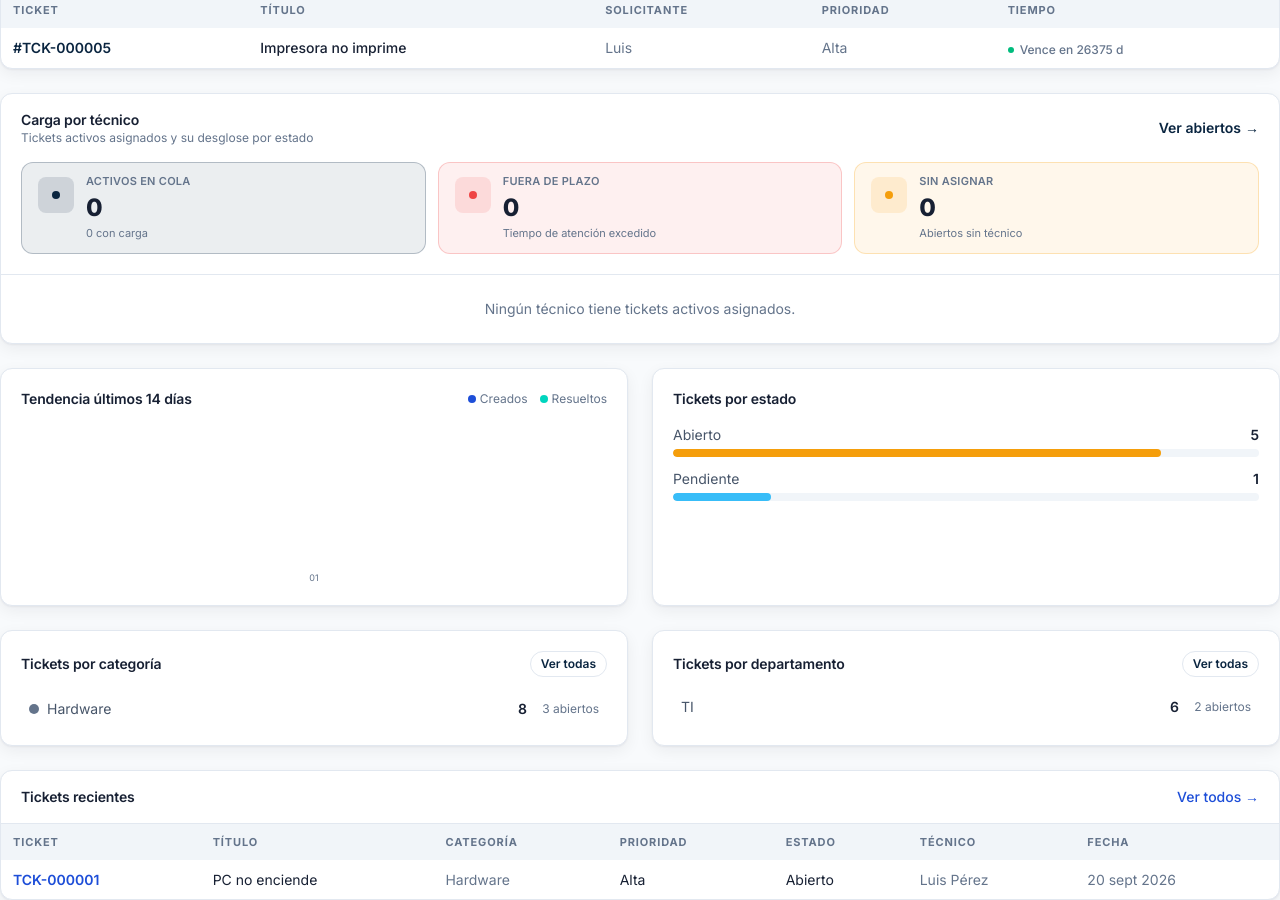
Test: Dashboard · navegación a Tickets › oculta por defecto las categorías sin tickets abiertos y las revela con "Ver todas"
(page scrolled)
Expected: the link "Hardware 8 3 abiertos" is shown, x1=29 y1=700 x2=599 y2=716
Expected: the link "Red" is not shown
Click the button "Ver todas" in the row of "Tickets por categoría": [568, 664] box x1=530 y1=650 x2=607 y2=676
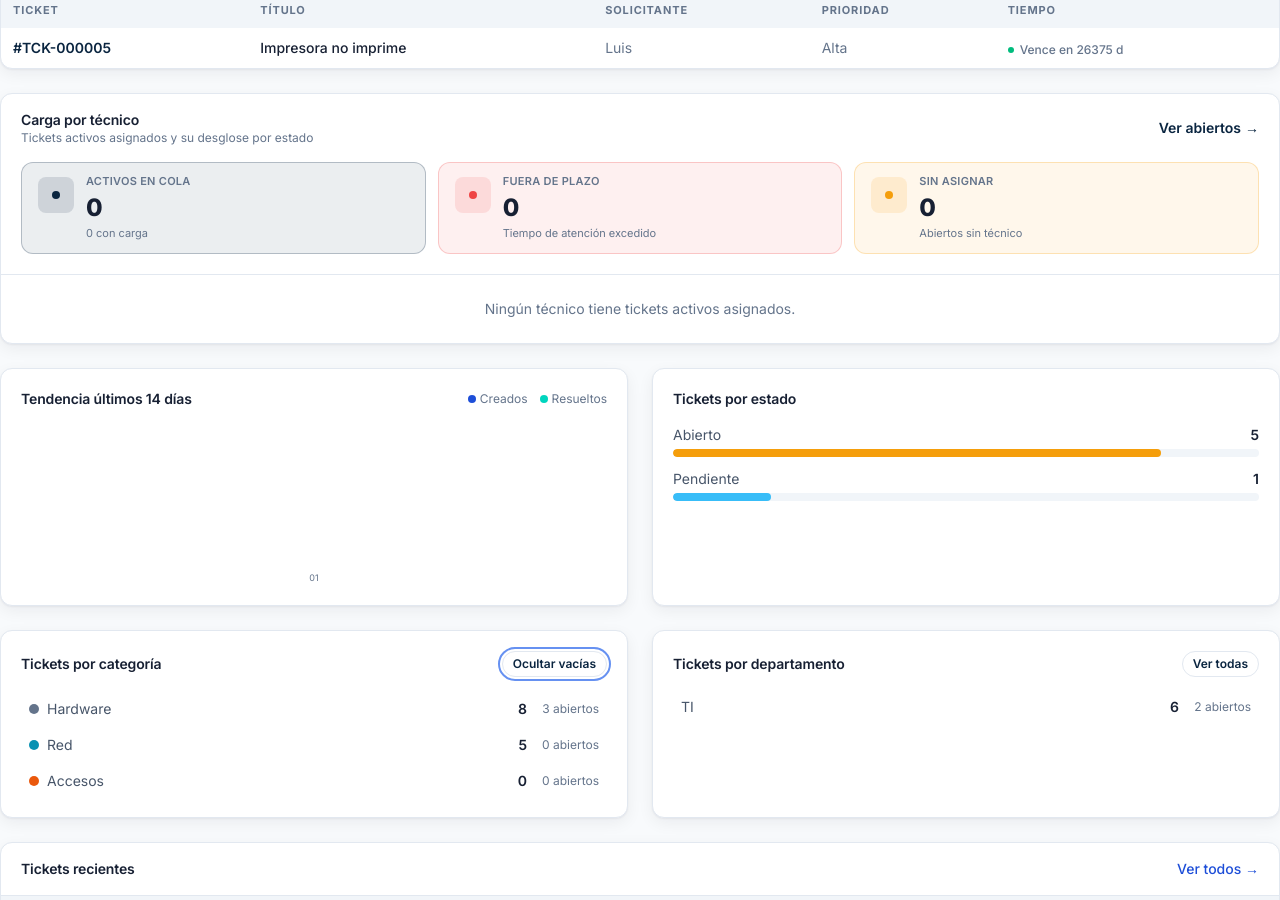
Expected: the link "Red 5 0 abiertos" is shown, x1=29 y1=736 x2=599 y2=752
Expected: the link "Accesos 0 0 abiertos" is shown, x1=29 y1=772 x2=599 y2=788
Click the button "Ocultar vacías": [554, 664] box x1=502 y1=650 x2=607 y2=676
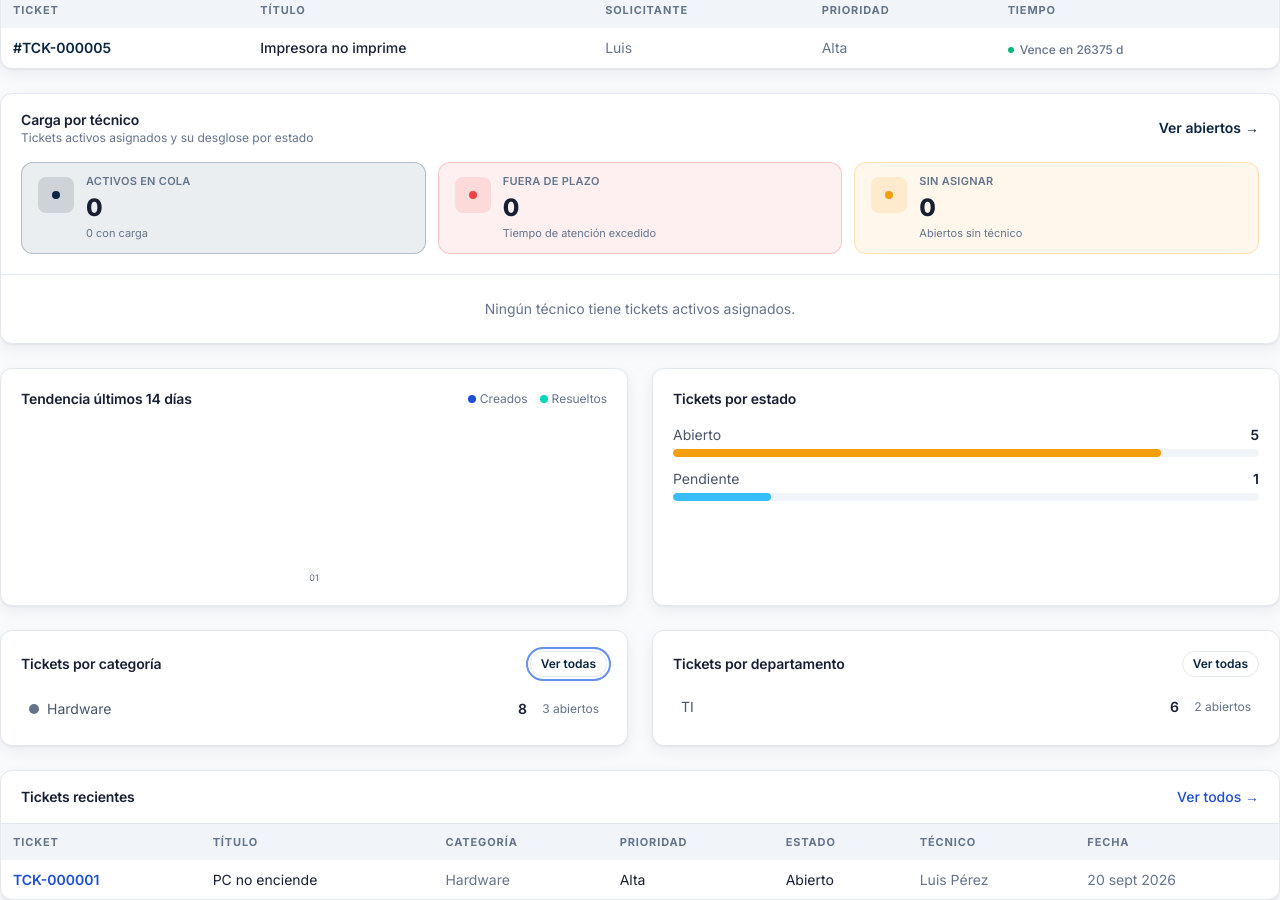
Expected: the link "Hardware 8 3 abiertos" is shown, x1=29 y1=700 x2=599 y2=716
Expected: the link "Accesos" is gone
